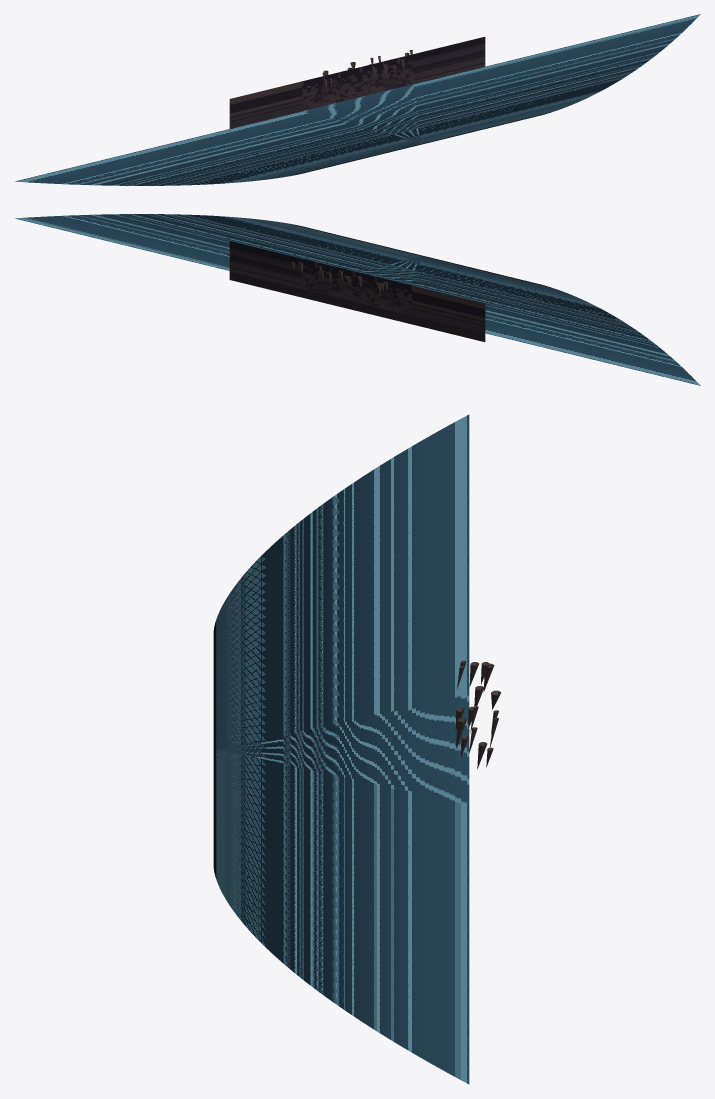
File: bg_cavewater.glb
The picture shows the model from 3 angles, top to bottom: view 1: azimuth 30°, elevation 25°; view 2: azimuth 150°, elevation 25°; view 3: azimuth 270°, elevation 25°; orthographic projection. The views are drawn at different scales.
Visible parts, largest first — view 1: cave_sea, cw_wall, stalactites; view 2: cave_sea, cw_wall, stalactites; view 3: cave_sea, stalactites.
Part boxes in pixels (x1,y1,x2,y2): cave_sea: (15, 14, 700, 185); cw_wall: (229, 37, 485, 128); stalactites: (322, 50, 412, 92); cave_sea: (15, 214, 700, 385); cw_wall: (229, 241, 485, 341); stalactites: (291, 262, 388, 294); cave_sea: (213, 414, 469, 1084); stalactites: (455, 660, 501, 769).
Bounding box in the file's own units: 80 × 4.34 × 14.51.
Materials: 4 (2 with a texture image).
